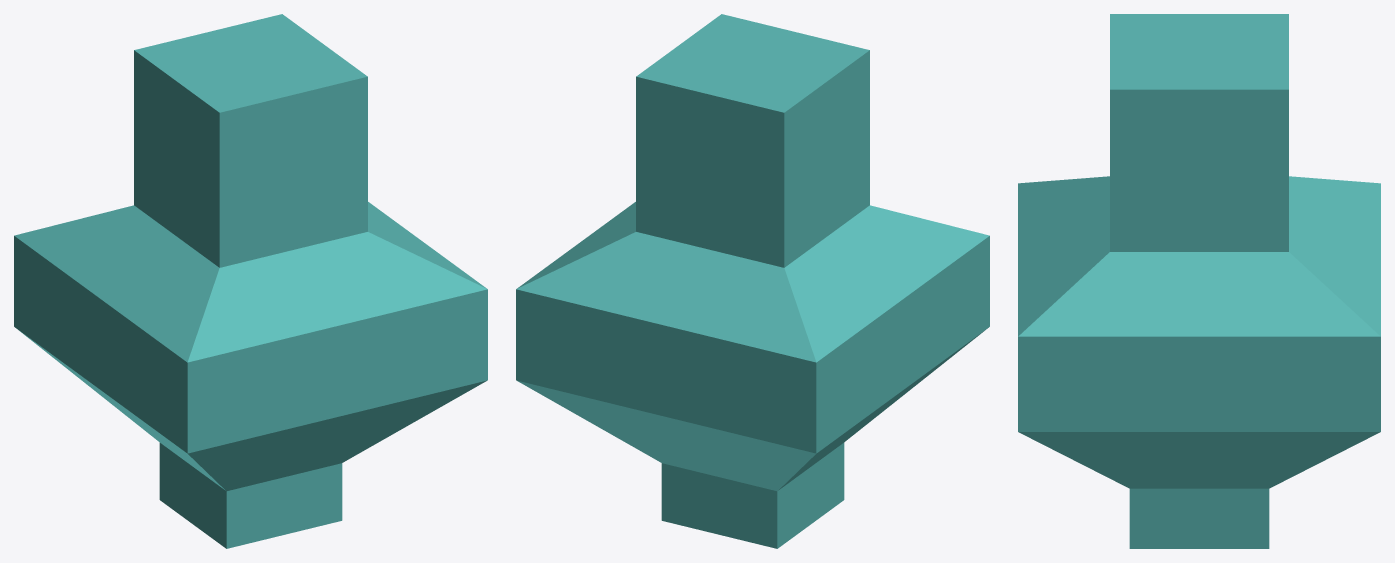
The model's file is sample_mdl.glb.
The picture shows the model from 3 angles, left to right: view 1: azimuth 30°, elevation 25°; view 2: azimuth 150°, elevation 25°; view 3: azimuth 270°, elevation 25°; orthographic projection. The views are drawn at different scales.
Visible parts, largest first — view 1: Cube; view 2: Cube; view 3: Cube.
Boxes of the visible parts, box(x1,y1,x2,y2) form: Cube: box(14, 14, 487, 548); Cube: box(516, 14, 989, 548); Cube: box(1018, 14, 1380, 548).
Size of the model in its own units: 4.05 by 5.76 by 4.05.
